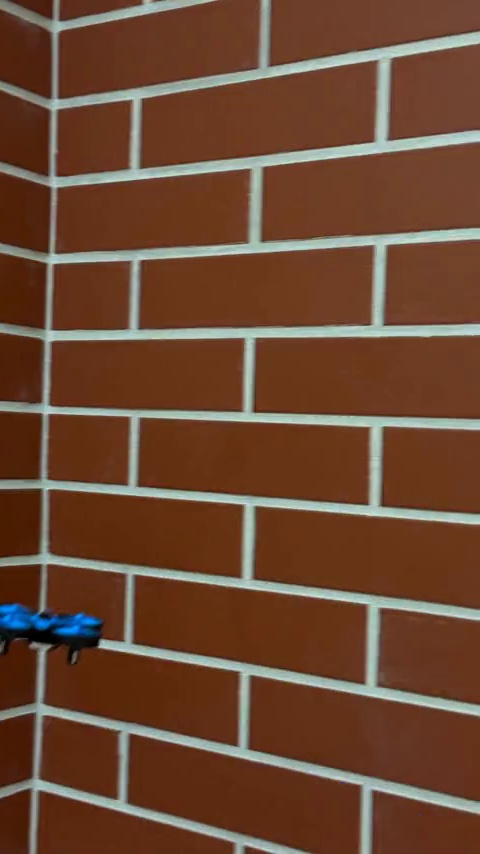drone: (0, 598, 107, 664)
